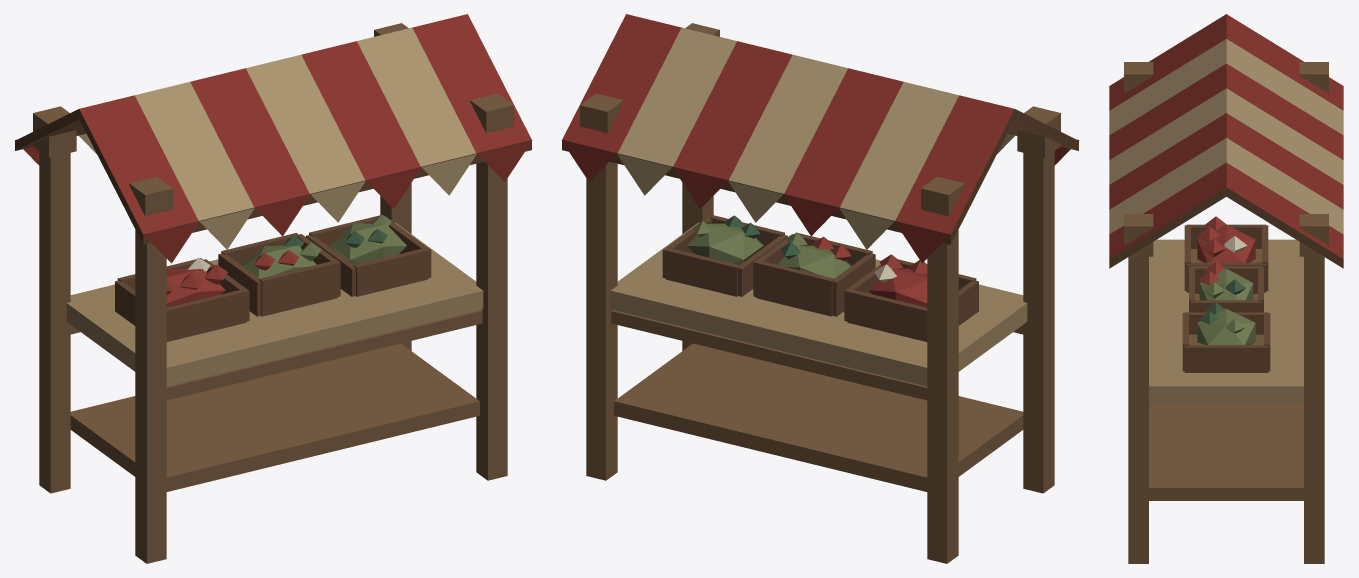
Rendered from market-stall.glb.
3 renders of one model, left to right at view 1: azimuth 30°, elevation 25°; view 2: azimuth 150°, elevation 25°; view 3: azimuth 270°, elevation 25°, orthographic. The views are drawn at different scales.
Visible parts, largest first — view 1: stall-body, crates-mesh; view 2: stall-body, crates-mesh; view 3: stall-body, crates-mesh.
Boxes of the visible parts, <box> form: stall-body: <box>14,14,532,563</box>; crates-mesh: <box>115,214,431,341</box>; stall-body: <box>561,14,1079,563</box>; crates-mesh: <box>662,215,978,341</box>; stall-body: <box>1109,14,1343,563</box>; crates-mesh: <box>1182,216,1270,372</box>.
Size of the model in its own units: 1.96 by 2.02 by 1.13.
